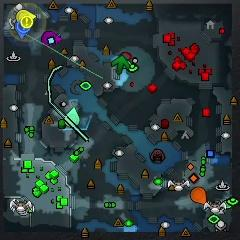Other: (18, 21, 30, 32), (21, 17, 32, 28)
p1: (15, 20, 30, 39)
p2: (64, 107, 80, 126)
p3: (41, 31, 63, 47)
p4: (16, 9, 36, 22)
p5: (190, 186, 208, 206)
x4: (112, 55, 130, 76)
